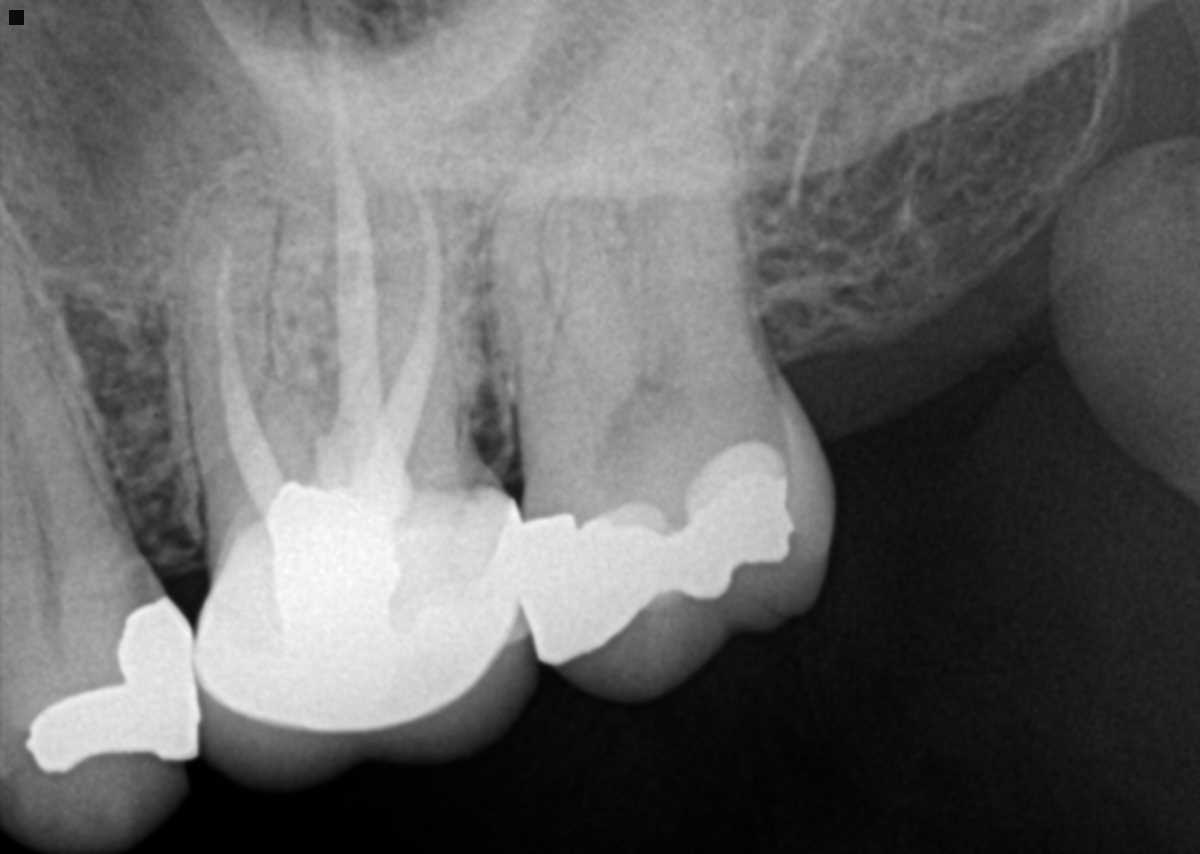Distal Root: (320, 152, 488, 491), (622, 49, 758, 371)
Main Canal: (5, 404, 59, 599)
Main Root: (0, 226, 145, 611)
Mesial Canal: (535, 181, 630, 424)
Mesial Root: (176, 163, 337, 538), (485, 97, 637, 435)
Palatal Root: (526, 18, 759, 412), (258, 1, 433, 512)
Root Canal Filling: (320, 30, 415, 512), (352, 179, 445, 514), (216, 239, 286, 517)
